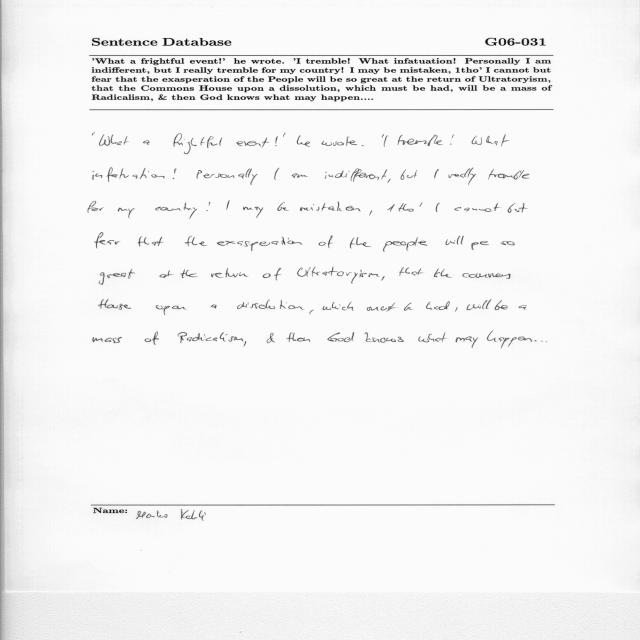word: (297, 267, 380, 284), (217, 237, 303, 251), (196, 168, 258, 185), (174, 133, 223, 154), (93, 168, 165, 182), (325, 169, 387, 182), (178, 332, 244, 343), (155, 203, 197, 219), (237, 300, 304, 310), (383, 237, 427, 252), (300, 202, 361, 212), (99, 269, 135, 285), (487, 331, 517, 348), (398, 135, 443, 146), (472, 134, 509, 147), (488, 169, 530, 180), (449, 168, 476, 185), (365, 332, 404, 343), (454, 203, 500, 212), (95, 233, 120, 249), (212, 268, 249, 278), (99, 134, 129, 146), (321, 136, 357, 146), (236, 138, 269, 148), (99, 300, 132, 310), (388, 203, 423, 212), (156, 305, 187, 315), (462, 273, 511, 279), (418, 333, 447, 343), (138, 236, 164, 247), (323, 302, 354, 311), (328, 332, 355, 342), (456, 336, 478, 348), (367, 303, 395, 312), (467, 300, 492, 310), (243, 207, 263, 219), (350, 238, 371, 249), (185, 236, 207, 246), (263, 268, 281, 280), (399, 267, 423, 276), (426, 301, 450, 310), (287, 333, 311, 342), (508, 203, 528, 213), (145, 331, 159, 345), (88, 201, 104, 213), (401, 169, 418, 180), (434, 268, 452, 278), (93, 337, 122, 343), (445, 236, 464, 245), (118, 208, 135, 218), (319, 236, 333, 248), (471, 241, 489, 250), (297, 135, 310, 147), (181, 269, 198, 278), (495, 300, 508, 310), (518, 336, 537, 342), (277, 202, 289, 211), (160, 270, 173, 278), (292, 173, 308, 178), (267, 333, 275, 343), (404, 303, 413, 311), (275, 168, 280, 180), (501, 241, 515, 245), (172, 168, 177, 179), (434, 169, 439, 179), (518, 305, 527, 310), (450, 134, 454, 145), (226, 200, 230, 210), (207, 202, 211, 211), (436, 203, 440, 212), (143, 140, 150, 145), (384, 136, 387, 147), (275, 137, 278, 147), (211, 305, 217, 309), (381, 276, 385, 281), (309, 310, 314, 314), (369, 210, 372, 216), (455, 307, 458, 312), (92, 132, 95, 136), (283, 133, 286, 137), (388, 179, 391, 183), (244, 341, 246, 347), (382, 134, 384, 138), (361, 146, 364, 147)
